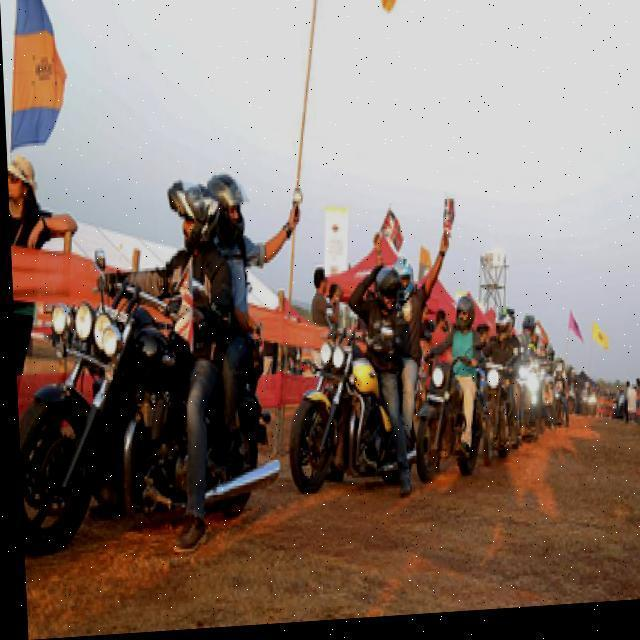Helmet: (370, 265, 401, 326)
